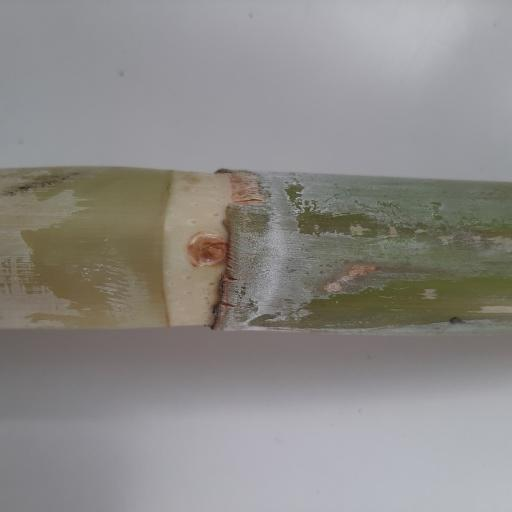Damage_Bud: (184, 232, 229, 267)
